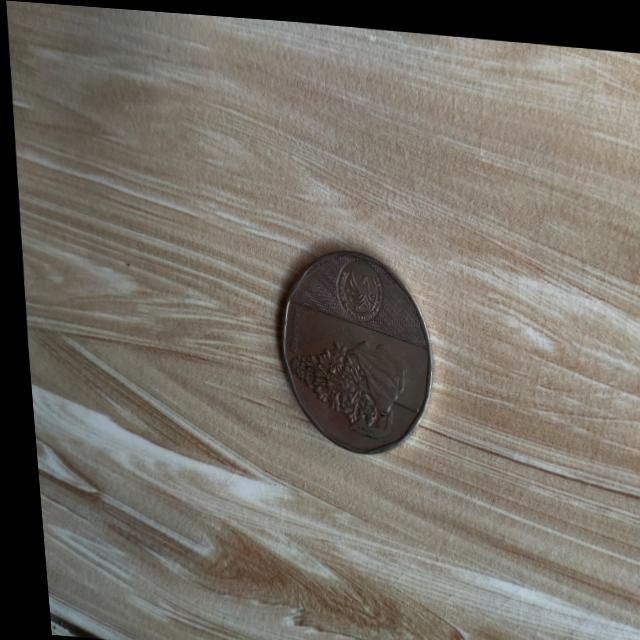10_New_Back: (277, 322, 422, 437)
